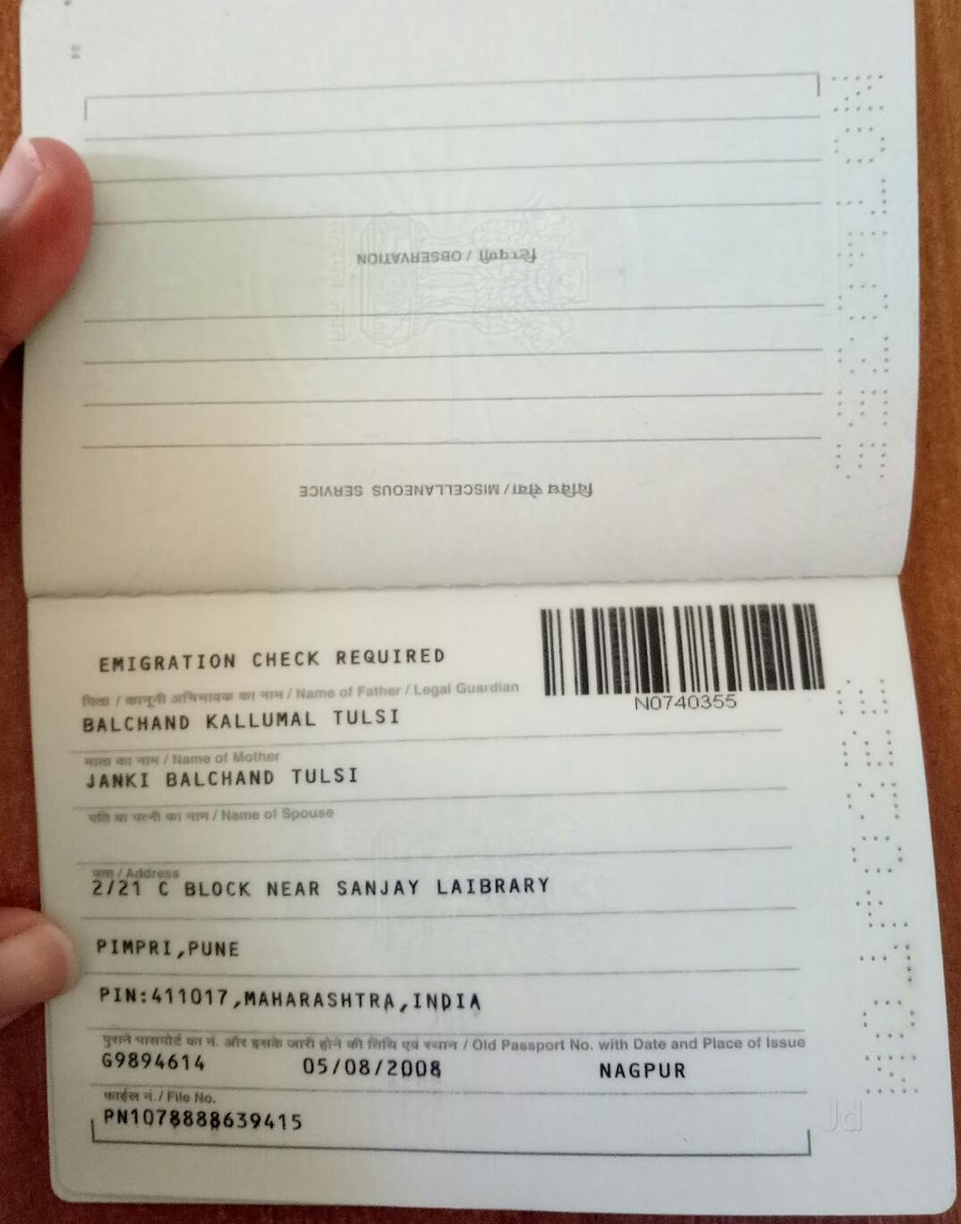File_no: (98, 1102, 306, 1136)
address: (73, 872, 568, 1031)
father_name: (74, 700, 431, 749)
mother_name: (81, 756, 367, 807)
old_passport_details: (81, 1040, 743, 1095)
passport_no: (627, 687, 739, 715)
